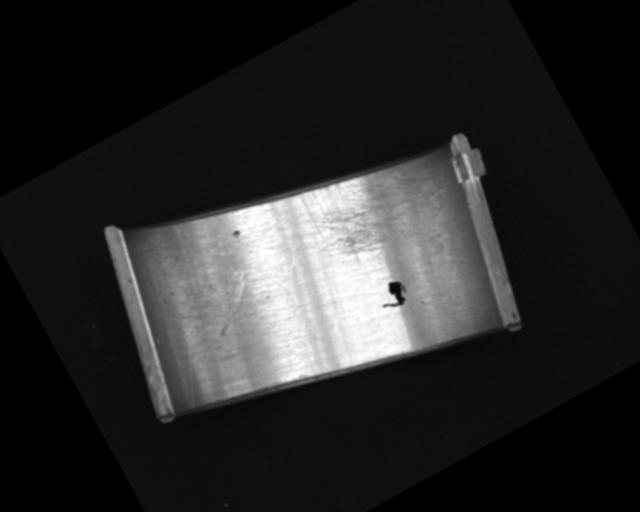blot: (373, 276, 412, 314)
bruise: (228, 227, 242, 241)
nick: (257, 255, 351, 379), (151, 311, 233, 411), (199, 271, 267, 337), (208, 227, 245, 281)
scratch: (287, 142, 436, 278)
